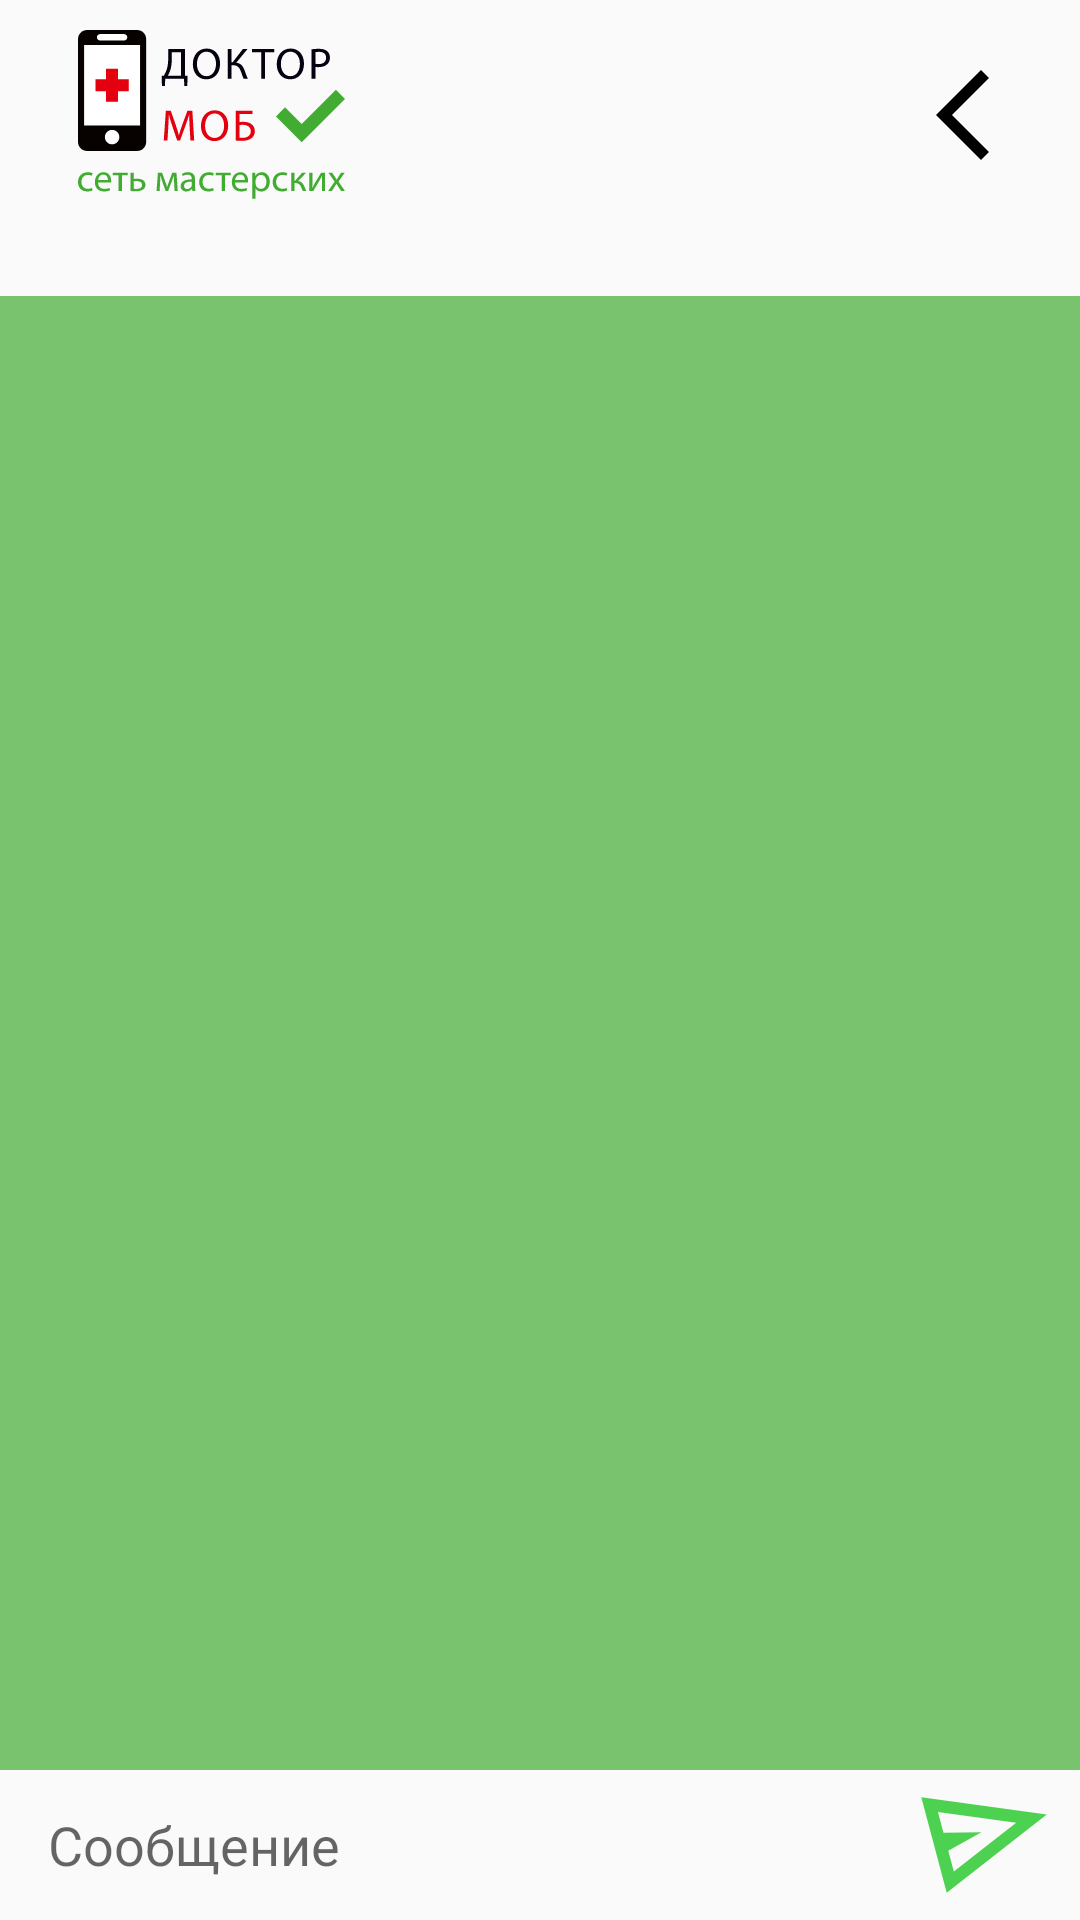

Icons on this 1080px x 1920px Android screen, each with the point to tap as (x=x, y=y):
arrow back: (x=962, y=115)
send: (x=984, y=1845)
